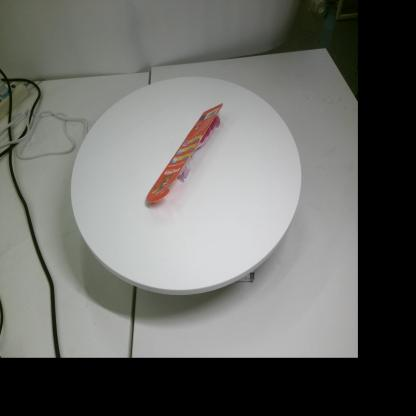Personal Hygiene: (146, 103, 224, 203)
